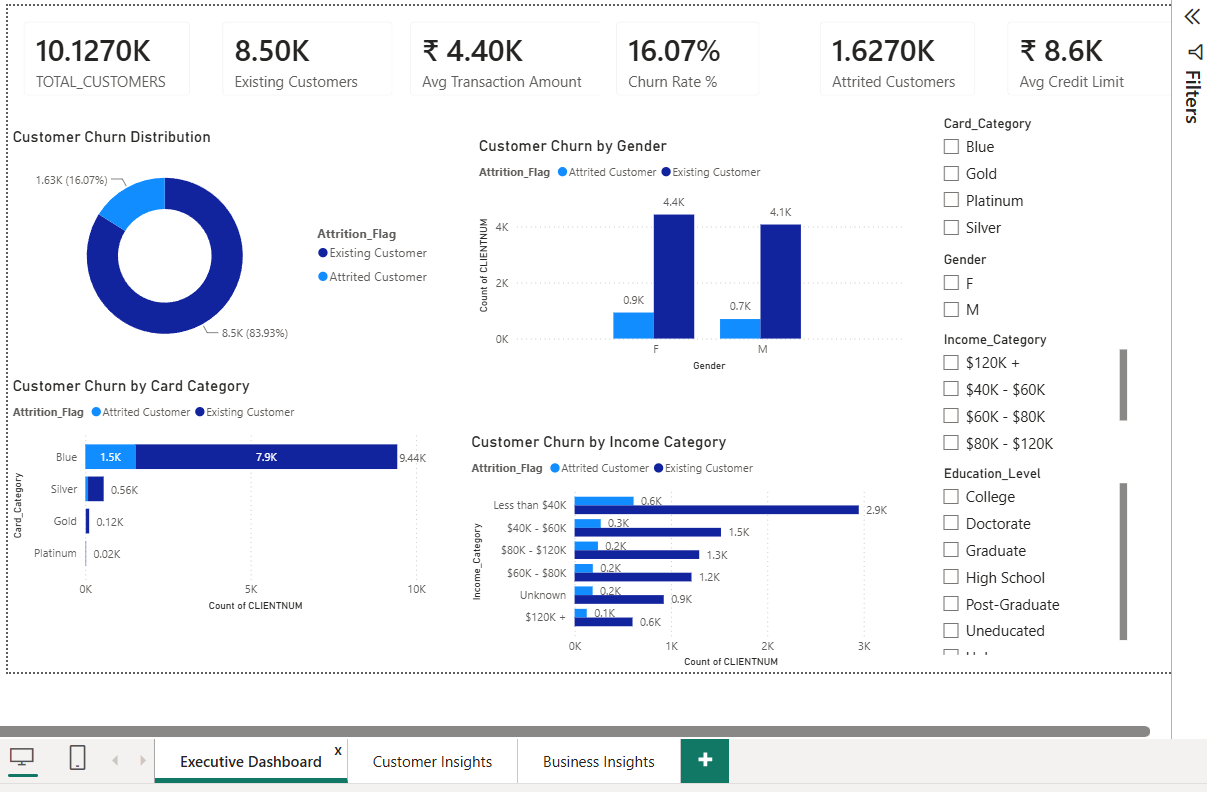

Layout of this report page (visuals, bound fields, positions):
{"tool":"powerbi","page":{"name":"Executive Dashboard","canvas":[1280,720],"ordinal":0},"visuals":[{"type":"cardVisual","fields":{"Data":["credit_card_churn bankchurners.TOTAL_CUSTOMERS"]},"box":[0,0,214.3,114.3],"z":0},{"type":"cardVisual","fields":{"Data":["credit_card_churn bankchurners.Existing Customers"]},"box":[214.3,0,218.4,114.3],"z":1000},{"type":"cardVisual","fields":{"Data":["credit_card_churn bankchurners.Attrited Customers"]},"box":[861.2,0,202,114.3],"z":2000},{"type":"cardVisual","fields":{"Data":["credit_card_churn bankchurners.Avg Credit Limit"]},"box":[1063.3,0,216.3,114.3],"z":3000},{"type":"cardVisual","fields":{"Data":["credit_card_churn bankchurners.Avg Transaction Amount"]},"box":[418.1,0,251,114.3],"z":4000},{"type":"cardVisual","fields":{"Data":["credit_card_churn bankchurners.Churn Rate %"]},"box":[640.8,0,189.8,114.3],"z":5000},{"type":"donutChart","title":"Customer Churn Distribution","fields":{"Category":["credit_card_churn bankchurners.Attrition_Flag"],"Y":["CountNonNull(credit_card_churn bankchurners.CLIENTNUM)"]},"box":[0,130.6,467.3,259.2],"z":6000},{"type":"clusteredColumnChart","title":"Customer Churn by Gender","fields":{"Category":["credit_card_churn bankchurners.Gender"],"Y":["CountNonNull(credit_card_churn bankchurners.CLIENTNUM)"],"Series":["credit_card_churn bankchurners.Attrition_Flag"]},"box":[504.1,140.8,467,259],"z":7000},{"type":"barChart","title":"Customer Churn by Card Category","fields":{"Category":["credit_card_churn bankchurners.Card_Category"],"Y":["CountNonNull(credit_card_churn bankchurners.CLIENTNUM)"],"Series":["credit_card_churn bankchurners.Attrition_Flag"]},"box":[0,400.5,467,259],"z":8000},{"type":"clusteredBarChart","title":"Customer Churn by Income Category","fields":{"Category":["credit_card_churn bankchurners.Income_Category"],"Y":["CountNonNull(credit_card_churn bankchurners.CLIENTNUM)"],"Series":["credit_card_churn bankchurners.Attrition_Flag"]},"box":[495.9,461.2,467,259],"z":9000},{"type":"slicer","fields":{"Values":["credit_card_churn bankchurners.Card_Category"]},"box":[998.1,113.9,216.2,146.3],"z":10000},{"type":"slicer","fields":{"Values":["credit_card_churn bankchurners.Gender"]},"box":[998.1,260.2,216.2,99.7],"z":11000},{"type":"slicer","fields":{"Values":["credit_card_churn bankchurners.Income_Category"]},"box":[998.1,346.9,216.2,145],"z":12000},{"type":"slicer","fields":{"Values":["credit_card_churn bankchurners.Education_Level"]},"box":[998.1,491.9,216.2,214.9],"z":13000}]}

Visuals, with their boxes on the page's 1280x720 design canvas (x1, y1, x2, y2). These are canvas units, not pixel positions in the 1207x792 screenshot, which may show the page scaled, cropped or inside an application window:
cardVisual - credit_card_churn bankchurners.TOTAL_CUSTOMERS: (left=0, top=0, right=214, bottom=114)
cardVisual - credit_card_churn bankchurners.Existing Customers: (left=214, top=0, right=433, bottom=114)
cardVisual - credit_card_churn bankchurners.Attrited Customers: (left=861, top=0, right=1063, bottom=114)
cardVisual - credit_card_churn bankchurners.Avg Credit Limit: (left=1063, top=0, right=1280, bottom=114)
cardVisual - credit_card_churn bankchurners.Avg Transaction Amount: (left=418, top=0, right=669, bottom=114)
cardVisual - credit_card_churn bankchurners.Churn Rate %: (left=641, top=0, right=831, bottom=114)
"Customer Churn Distribution" donutChart: (left=0, top=131, right=467, bottom=390)
"Customer Churn by Gender" clusteredColumnChart: (left=504, top=141, right=971, bottom=400)
"Customer Churn by Card Category" barChart: (left=0, top=400, right=467, bottom=660)
"Customer Churn by Income Category" clusteredBarChart: (left=496, top=461, right=963, bottom=720)
slicer - credit_card_churn bankchurners.Card_Category: (left=998, top=114, right=1214, bottom=260)
slicer - credit_card_churn bankchurners.Gender: (left=998, top=260, right=1214, bottom=360)
slicer - credit_card_churn bankchurners.Income_Category: (left=998, top=347, right=1214, bottom=492)
slicer - credit_card_churn bankchurners.Education_Level: (left=998, top=492, right=1214, bottom=707)
